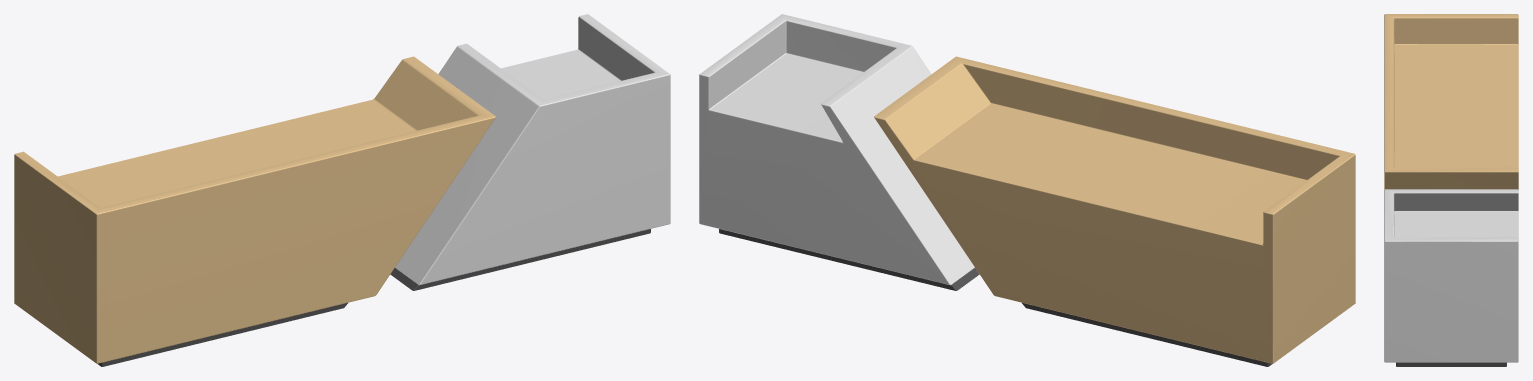
Rendered from Rezeption2.fbx.
3 renders of one model, left to right at view 1: azimuth 30°, elevation 25°; view 2: azimuth 150°, elevation 25°; view 3: azimuth 270°, elevation 25°, orthographic. The views are drawn at different scales.
Parts seen in each view (by area): view 1: Cube; view 2: Cube; view 3: Cube.
Boxes of the visible parts, x1,y1,x2,y2 form: Cube: (14, 14, 670, 366); Cube: (699, 14, 1355, 366); Cube: (1384, 14, 1518, 366).
Bounding box in the file's own units: 559 × 150 × 140.
